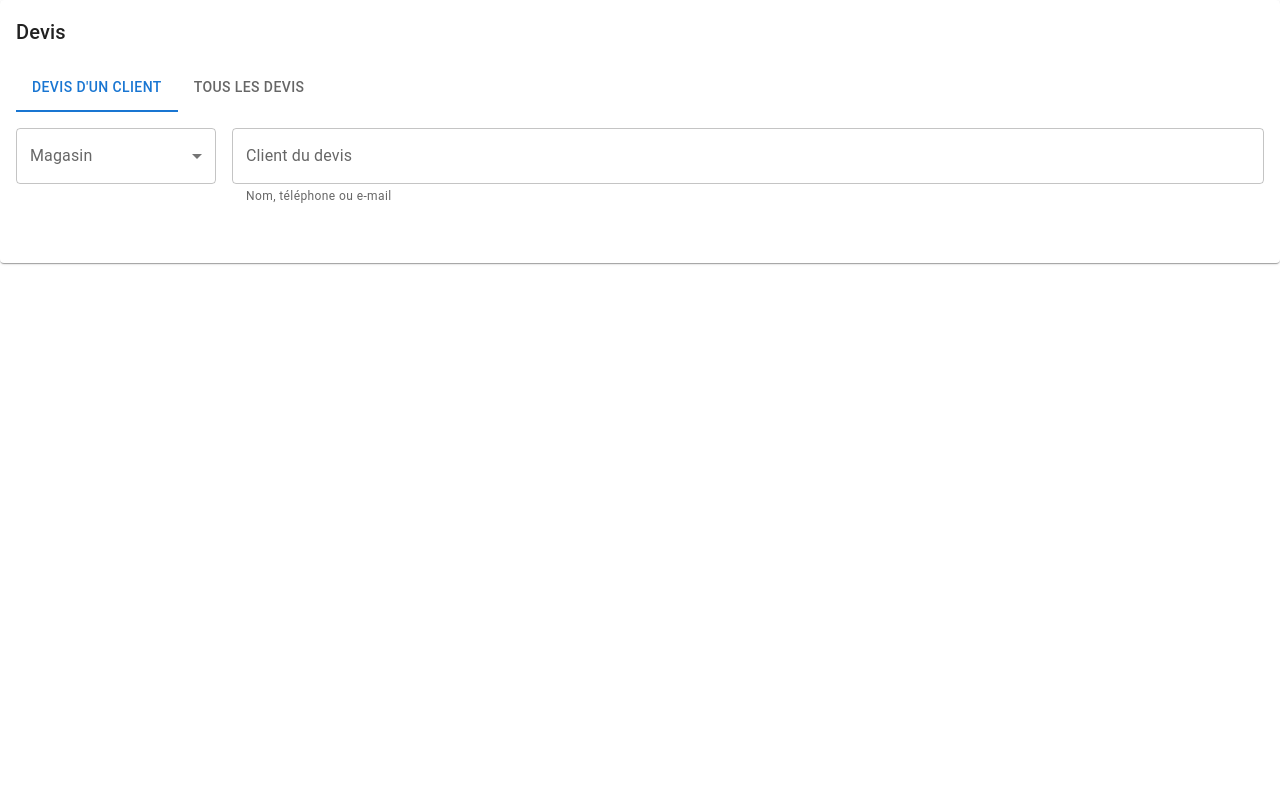
liste tous les devis, filtrés par numéro et statut, et ouvre un détail
The width and height of the screenshot is (1280, 800).
Click the tab "Tous les devis" at {"x": 249, "y": 88}, box [178, 64, 320, 112]
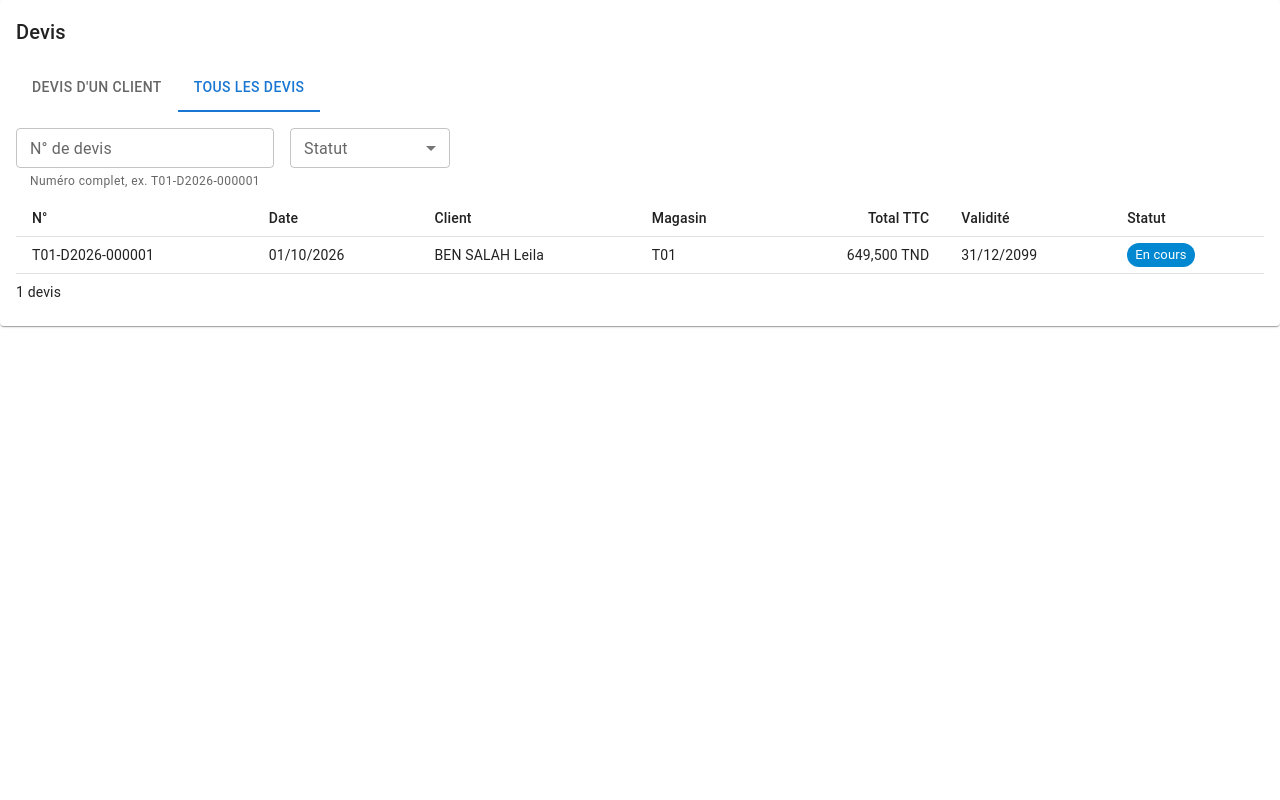
Expected: the text "T01-D2026-000001" is shown, [16, 236, 253, 273]
Expected: the text "BEN SALAH Leila" is shown, [418, 236, 636, 273]
Expected: the text "En cours" is shown, [1135, 247, 1187, 262]
Type "T01-D2026-000001" into the field labelled "N° de devis" at {"x": 145, "y": 148}, box [16, 128, 274, 168]
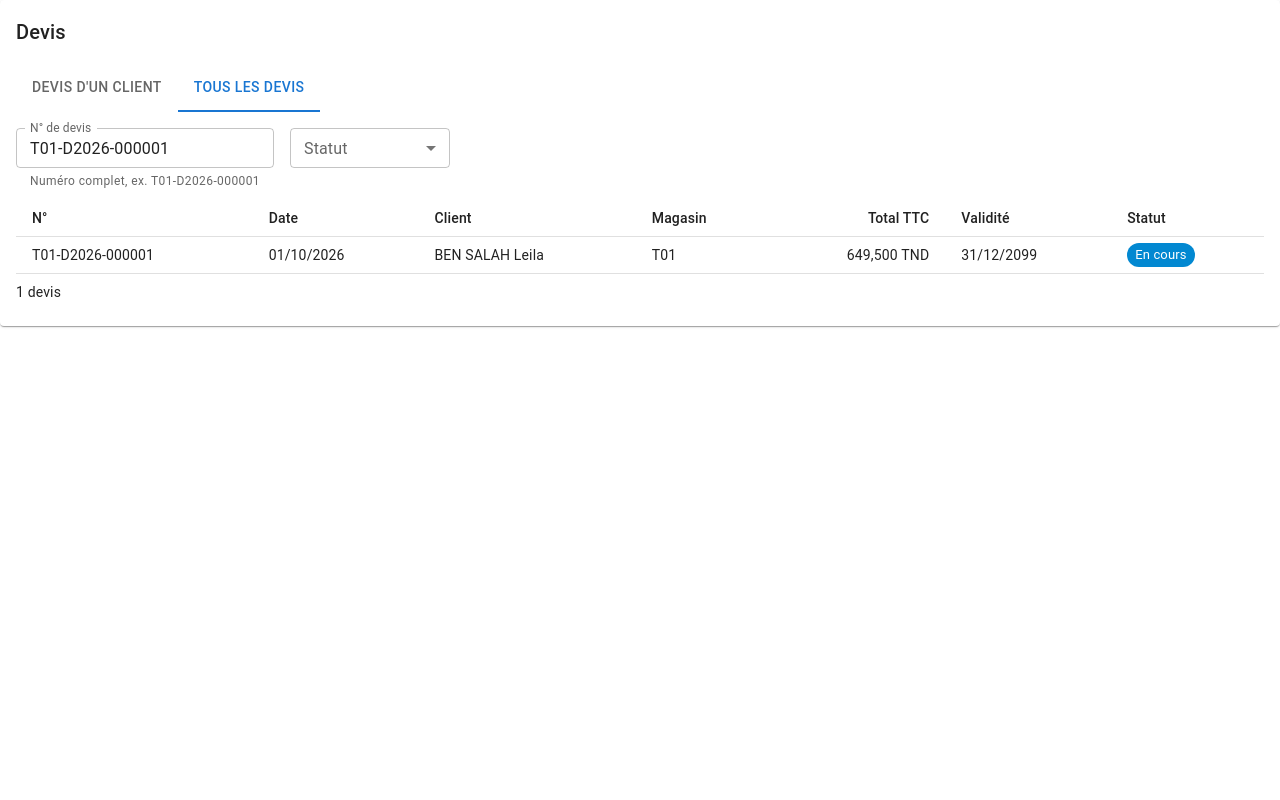
Press the mouse on the dropdown named "Statut" at {"x": 370, "y": 148}, box [290, 128, 450, 168]
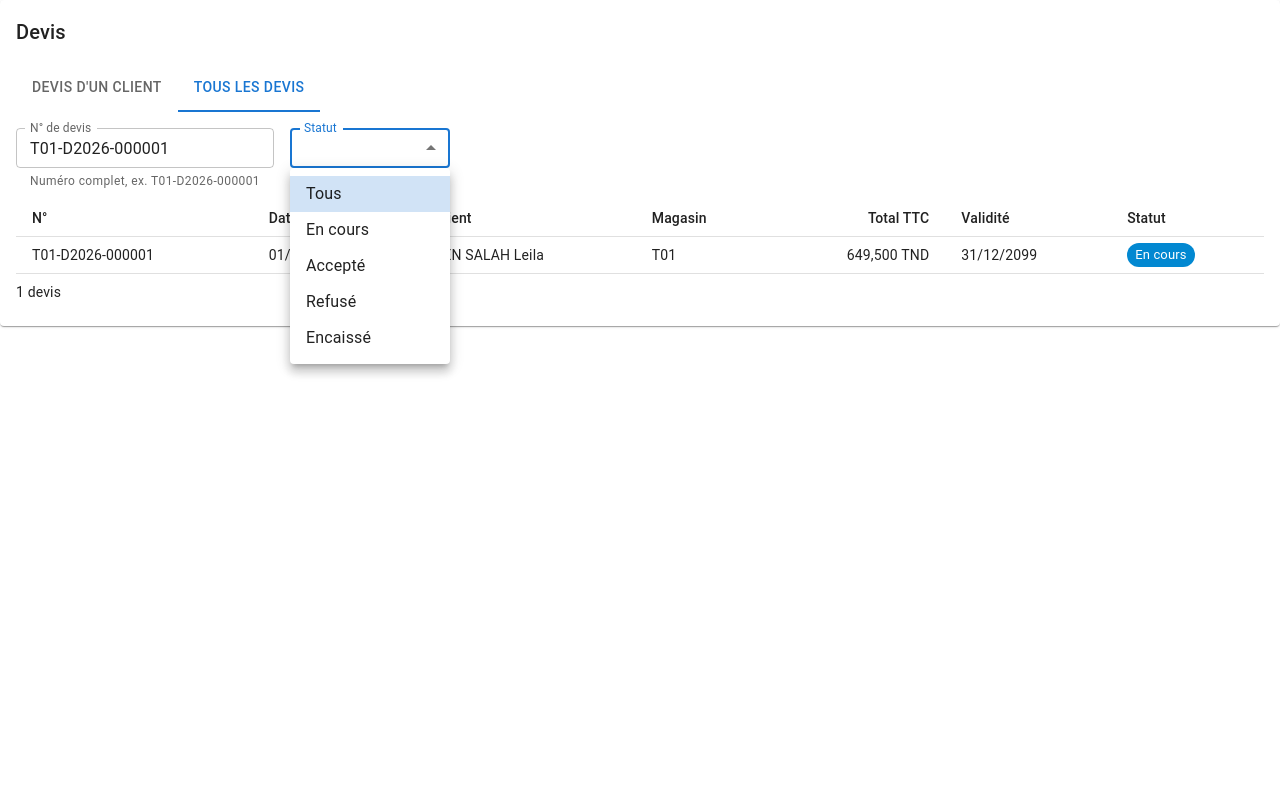
Click the option "Accepté" at {"x": 336, "y": 266}, box [306, 256, 365, 275]
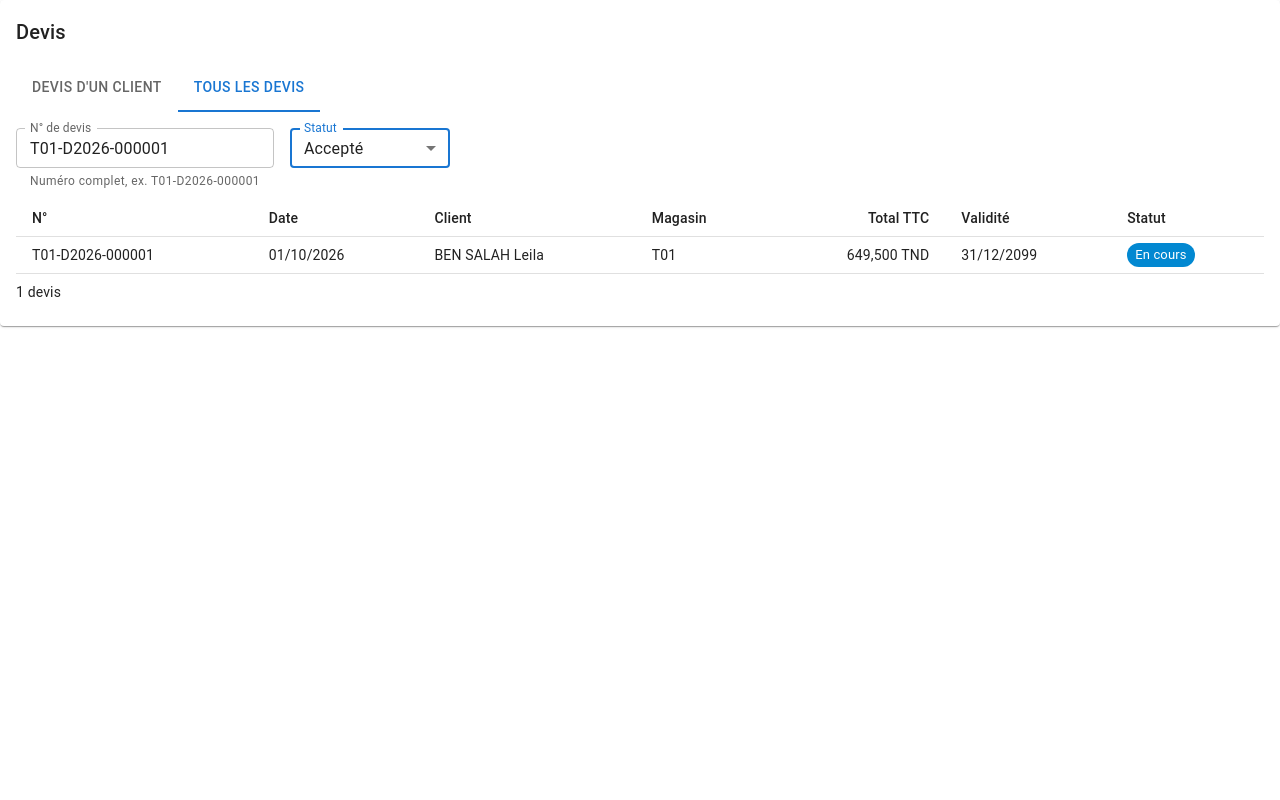
Click the text "T01-D2026-000001" at {"x": 134, "y": 255}, box [16, 236, 253, 273]
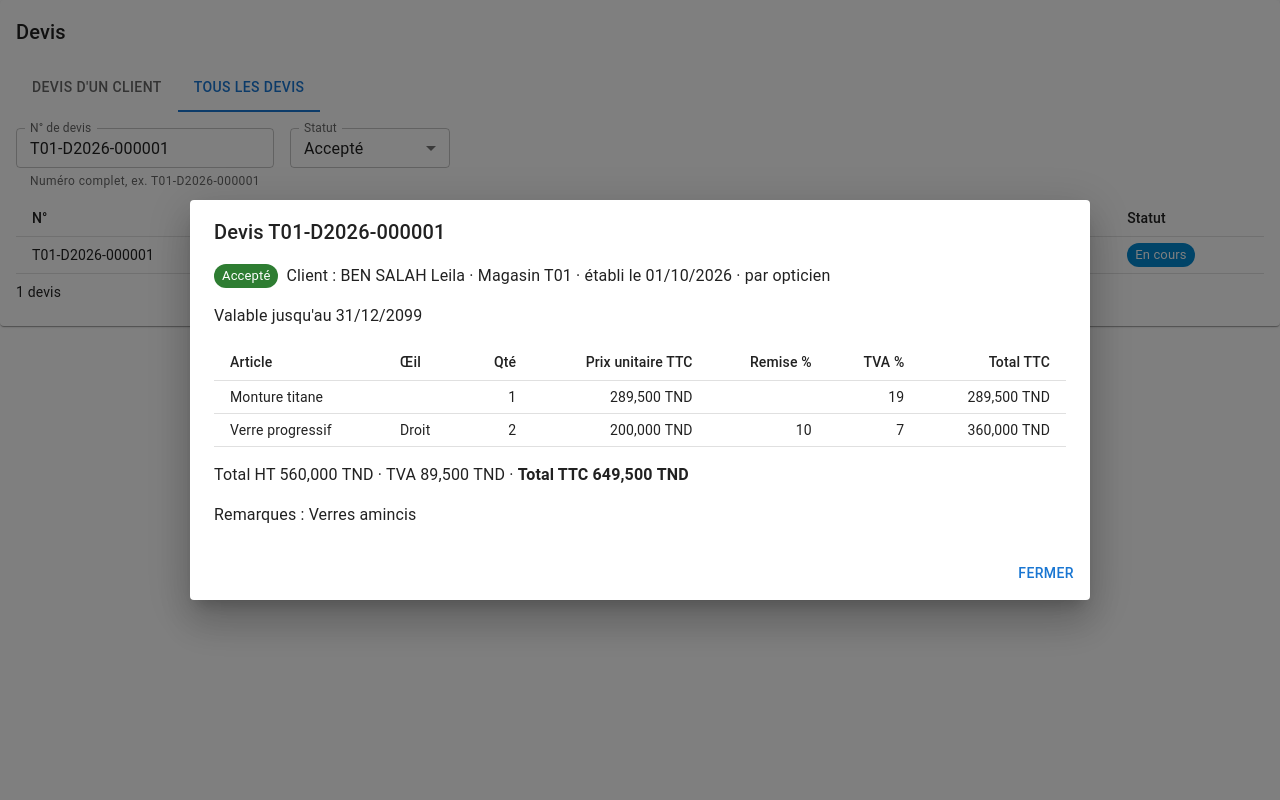
Expected: the table named "Détail des lignes" is shown, [214, 344, 1066, 447]
